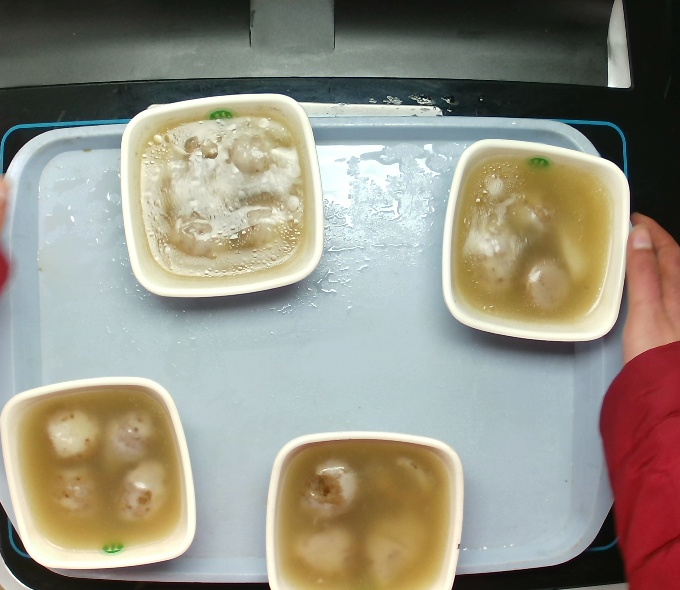wcq-YuTouTang: (134, 109, 310, 280), (10, 384, 184, 553), (451, 151, 615, 327), (269, 436, 456, 590)
